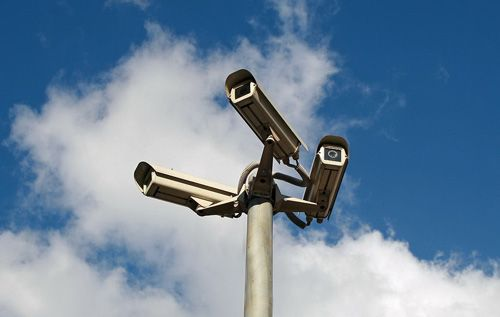camera: (224, 68, 301, 165), (131, 159, 242, 221), (304, 138, 348, 224)
